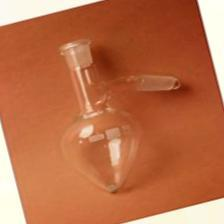Pear shaped flask: (52, 35, 147, 192)
